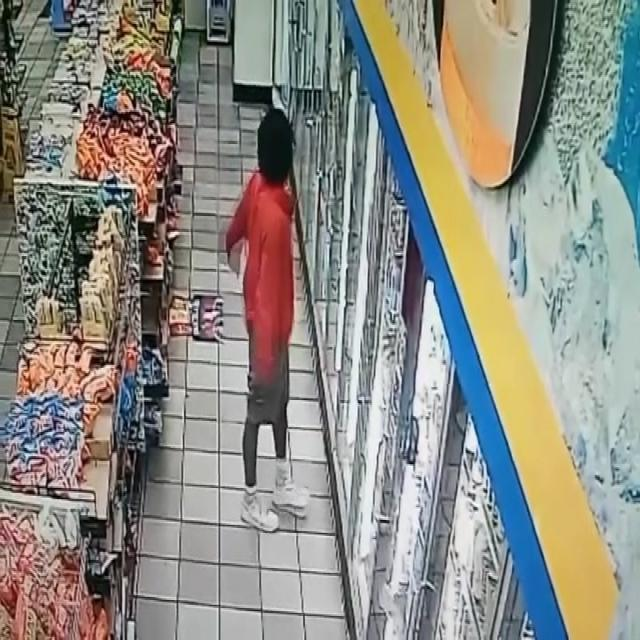Normal: (217, 98, 322, 544)
